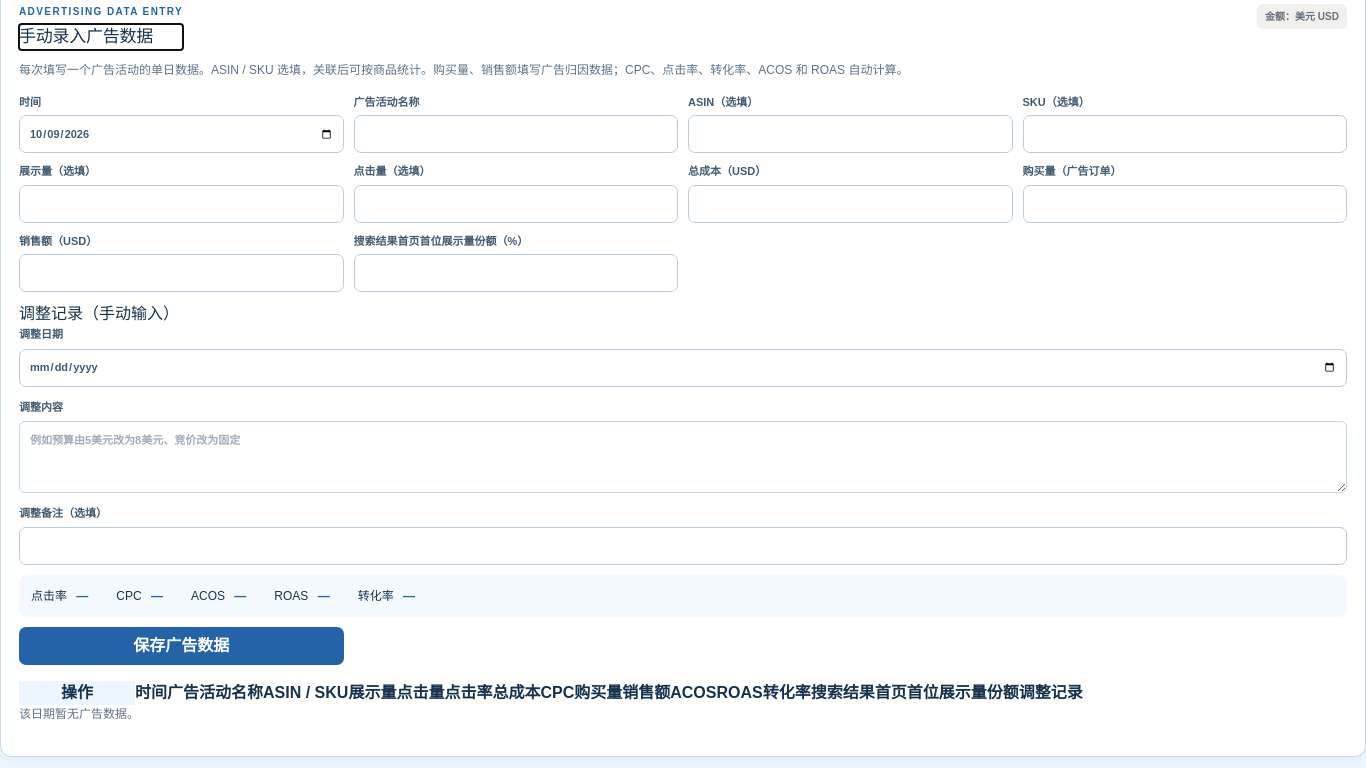
it: records search placement share and adjustment status and preserves unknown traffic as missing
(page scrolled)
Type "2026-10-04" into the date field named "广告日期" at (181, 134), box [19,115,344,153]
Type "Santa" into the field labelled "广告活动名称" at (516, 134), box [354,115,678,153]
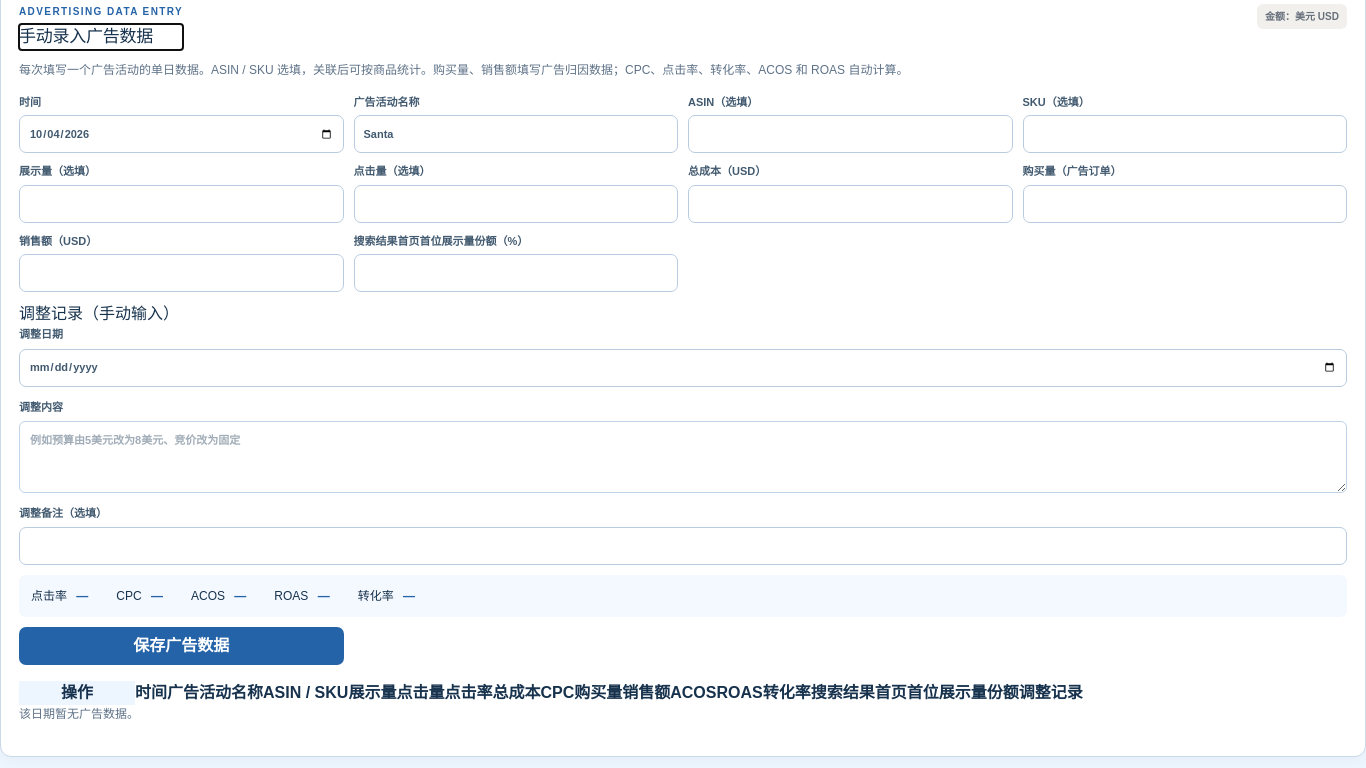
Type "20" into the number field named "广告花费（USD）" at (850, 204), box [688,185,1012,223]
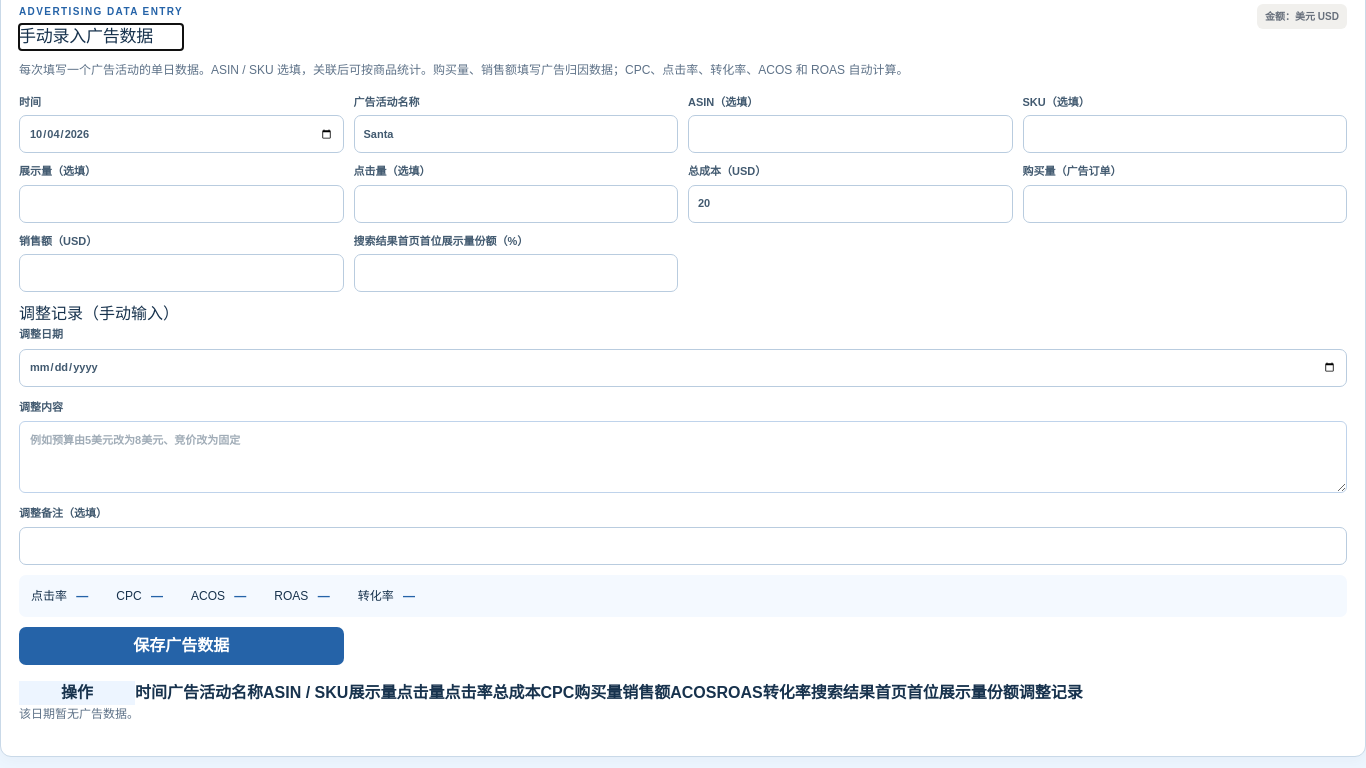
Type "100" into the number field named "广告销售额（USD）" at (181, 273), box [19,254,344,292]
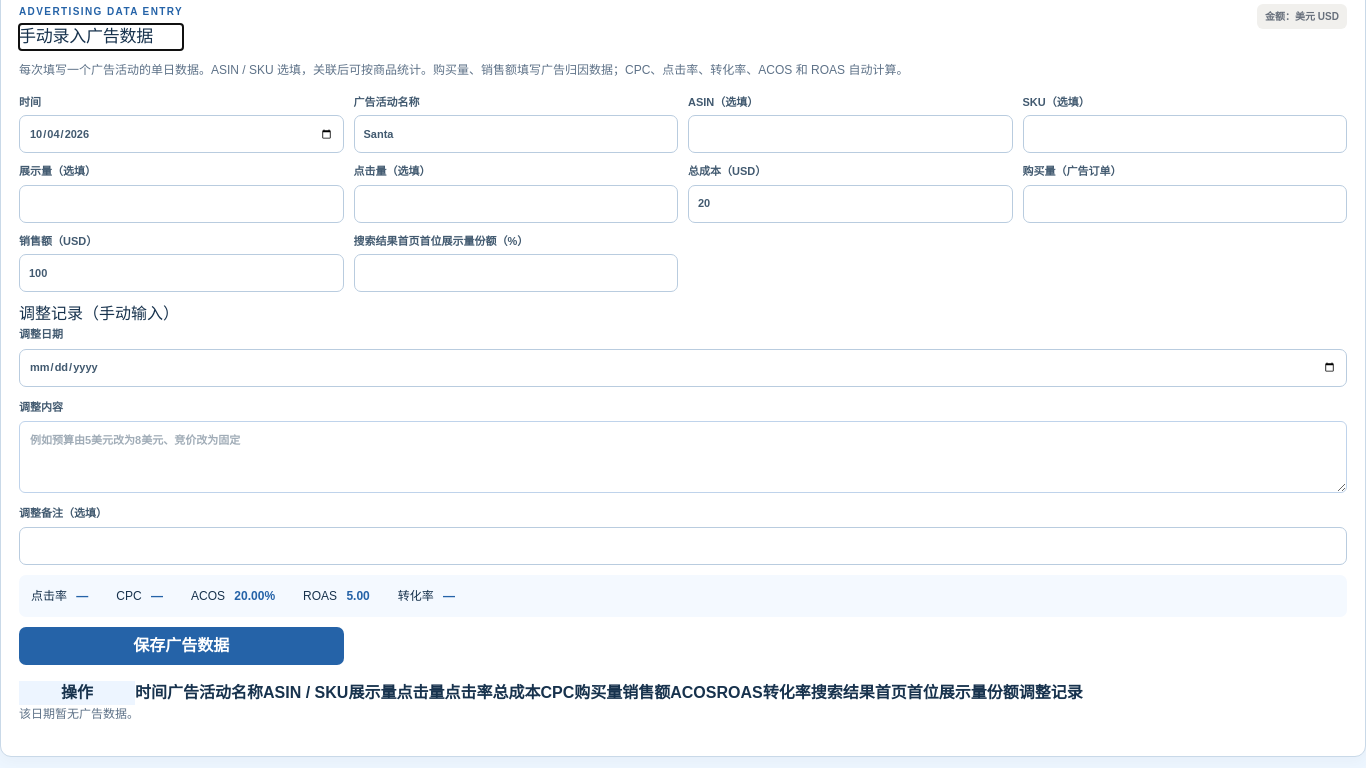
Type "2" into the number field named "广告订单（单）" at (1185, 204), box [1022,185,1347,223]
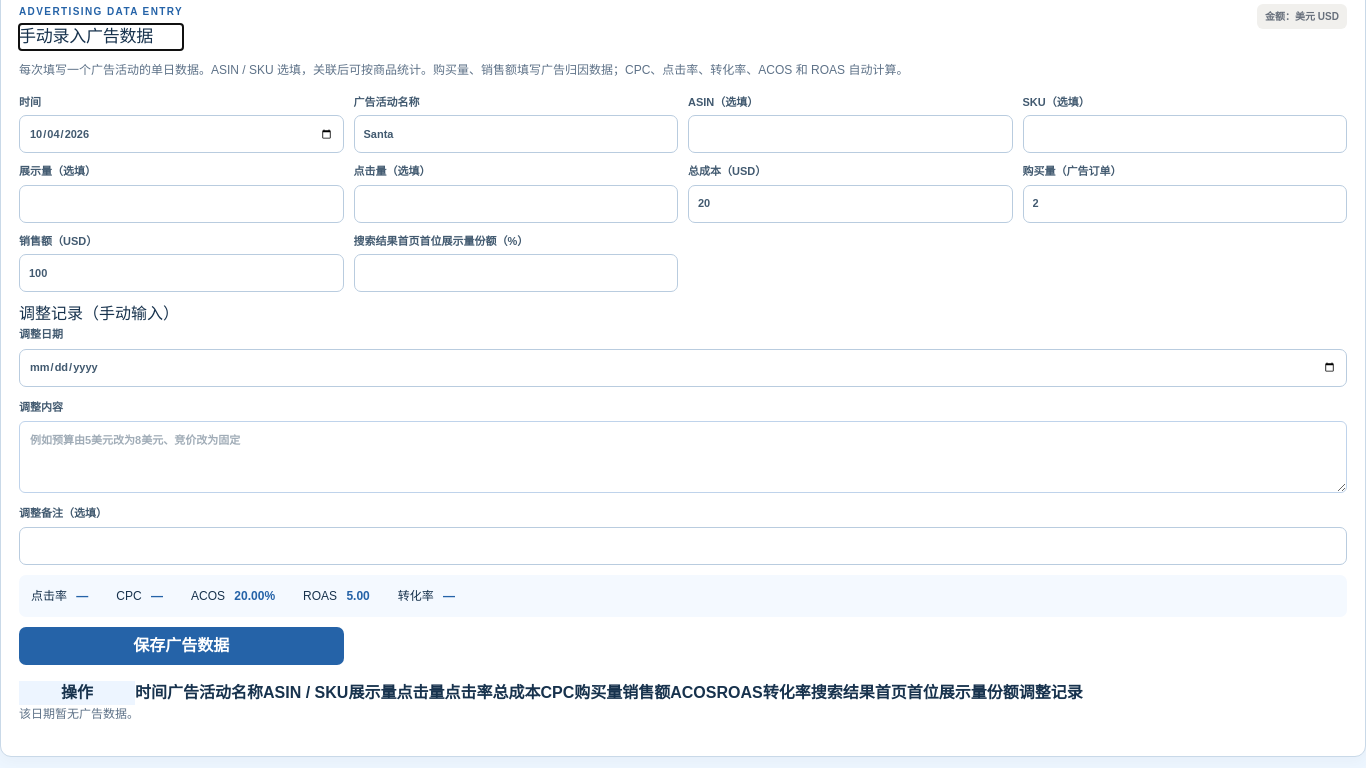
Type "12.5" into the number field named "搜索首页首位展示份额（%）" at (516, 273), box [354,254,678,292]
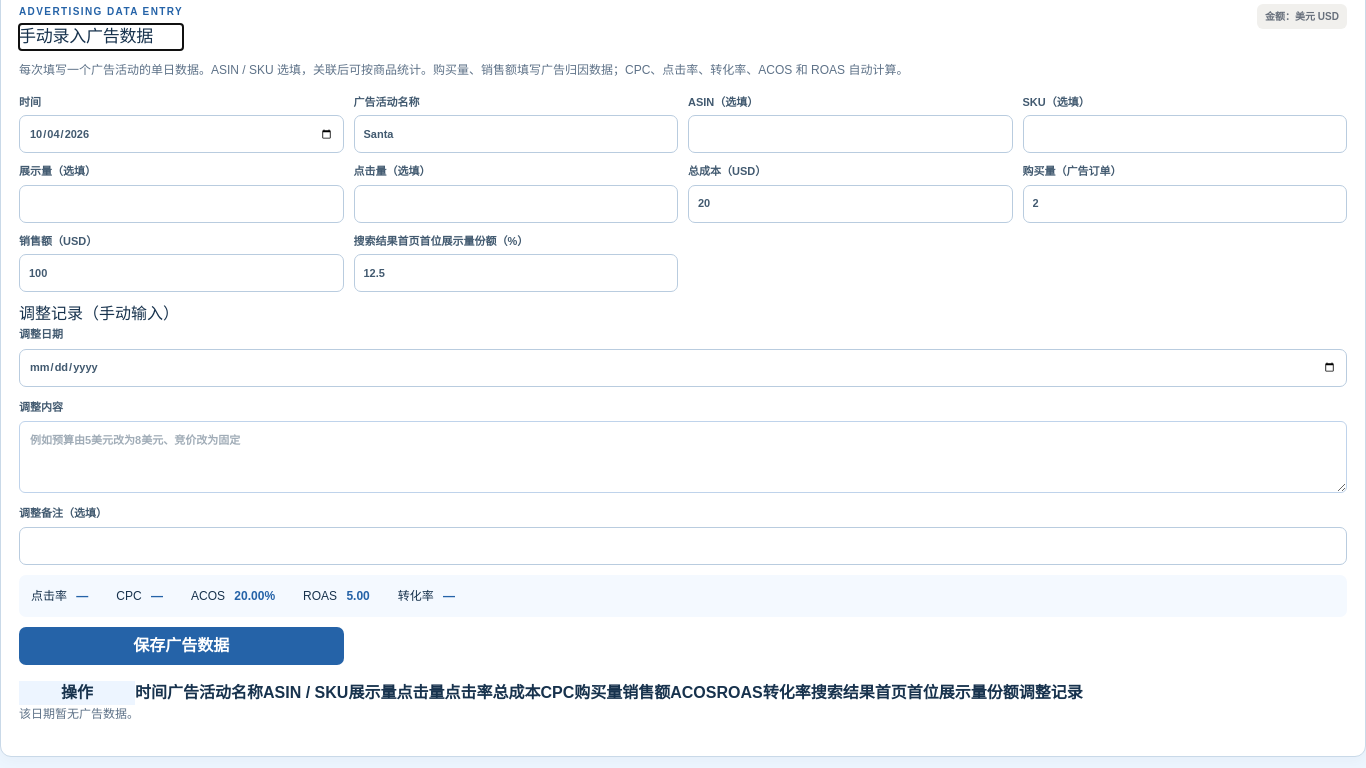
Click the button "保存广告数据" at (181, 646), box [19,627,344,665]
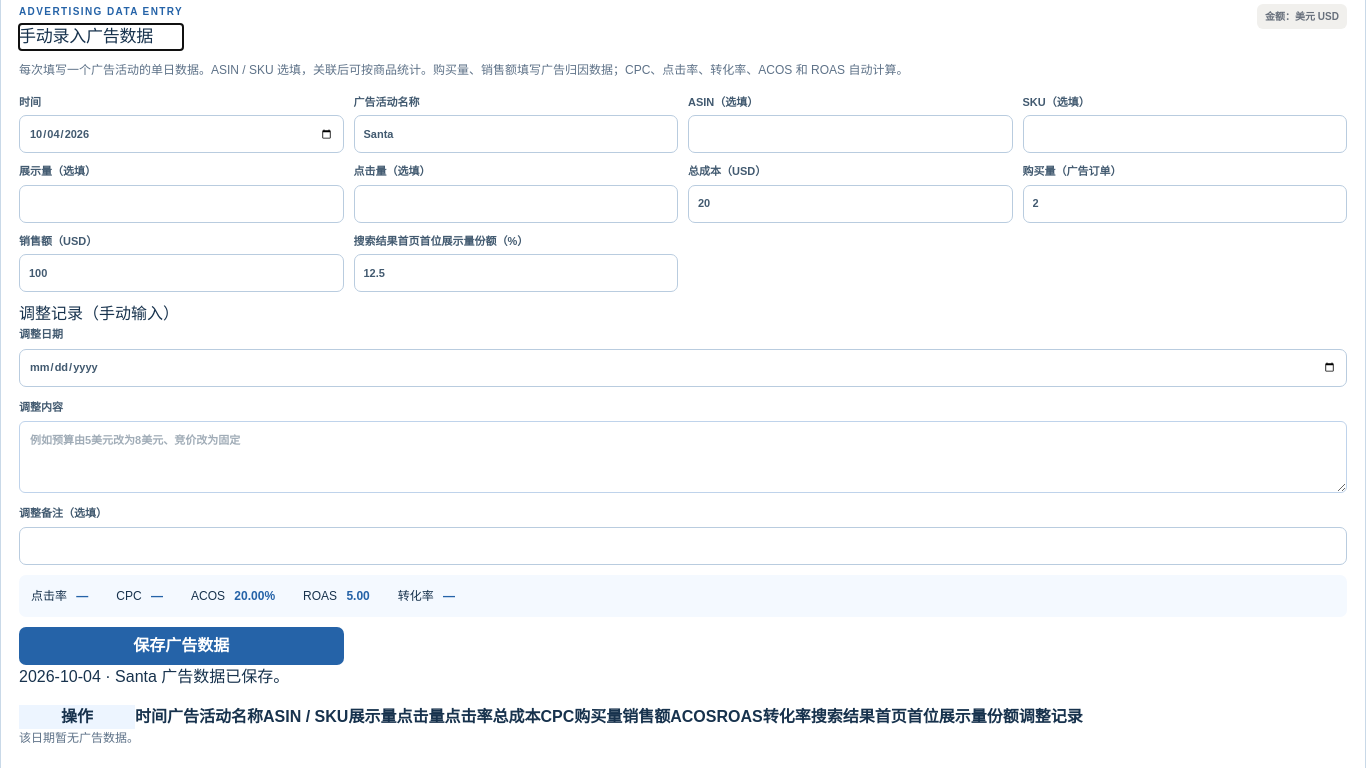
Now the text "2026-10-04 · Santa 广告数据已保存。" is shown, box [19,668,289,685]
